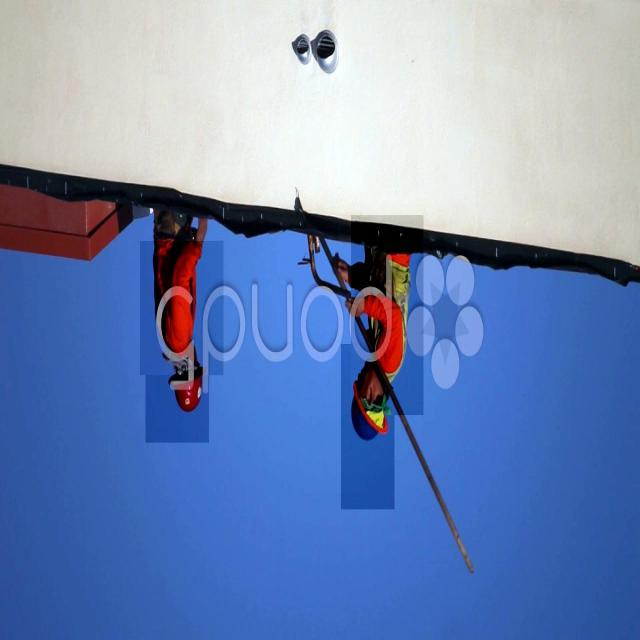Helmet: (140, 241, 224, 375), (341, 344, 395, 509), (145, 316, 209, 442)
Safety Vest: (351, 215, 423, 415)
